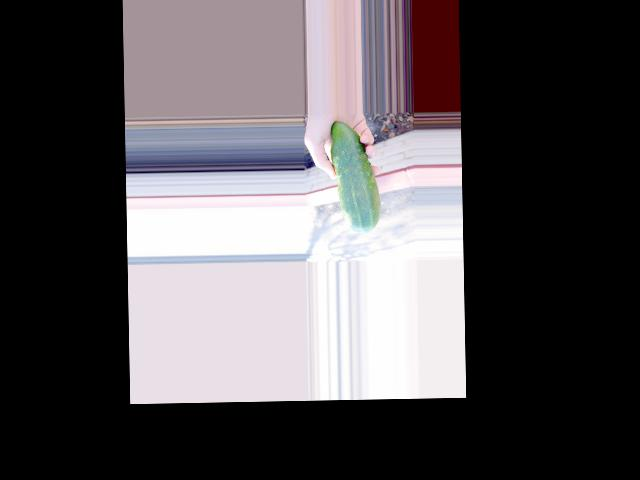cucumber: (330, 121, 381, 233)
